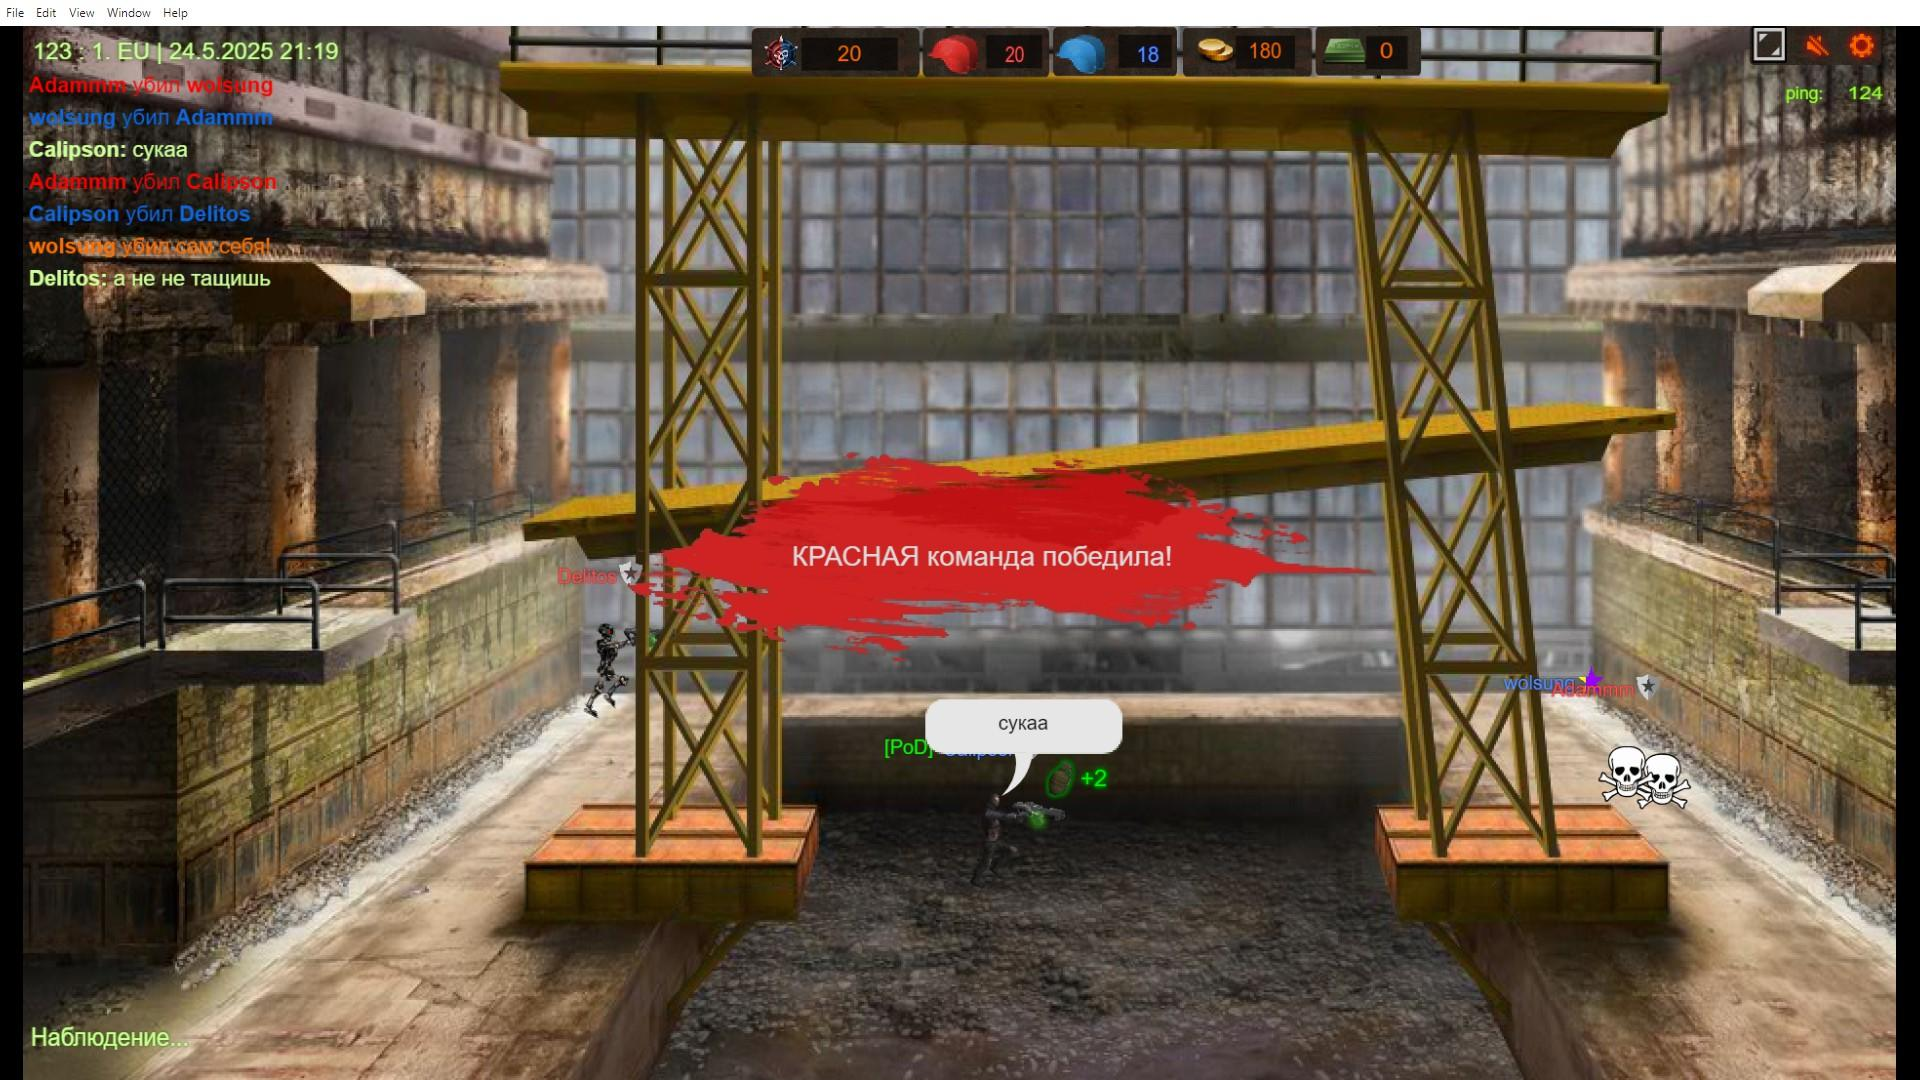enemy: (597, 622, 620, 717), (985, 793, 1005, 890)
